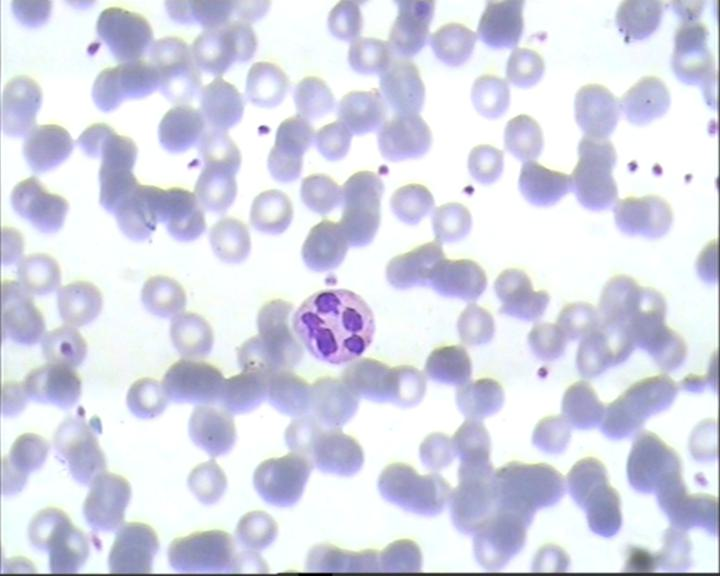neut: (286, 284, 377, 368)
